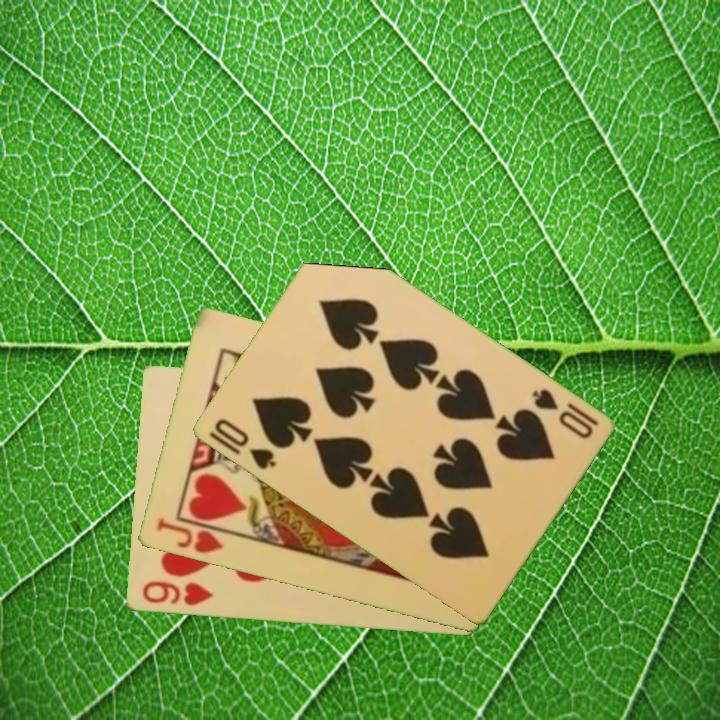10s: (204, 415, 279, 473), (527, 384, 602, 442)
9h: (138, 578, 215, 609)
Jh: (152, 514, 226, 557)
